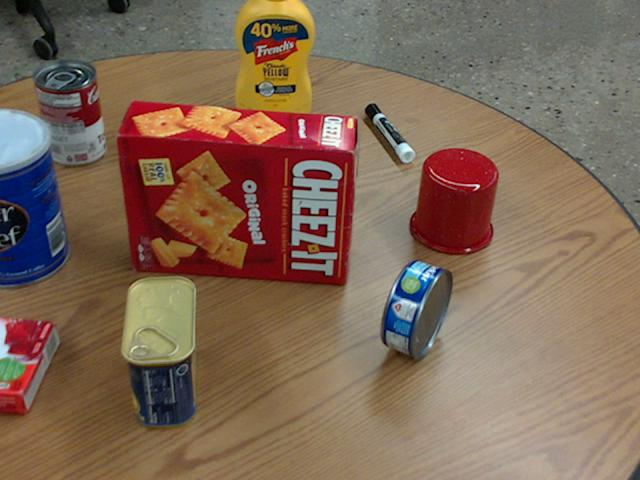cracker_box: (118, 101, 356, 284)
gelatin_box: (0, 317, 56, 411)
large_marker: (366, 102, 414, 161)
master_chef_can: (0, 110, 68, 288)
mug: (408, 147, 497, 253)
mustard_bottle: (235, 0, 314, 118)
potted_meat_can: (119, 275, 194, 426)
sugar_box: (154, 109, 319, 193)
tomato_soup_can: (34, 59, 105, 164)
tuna_fish_can: (382, 259, 450, 357)
